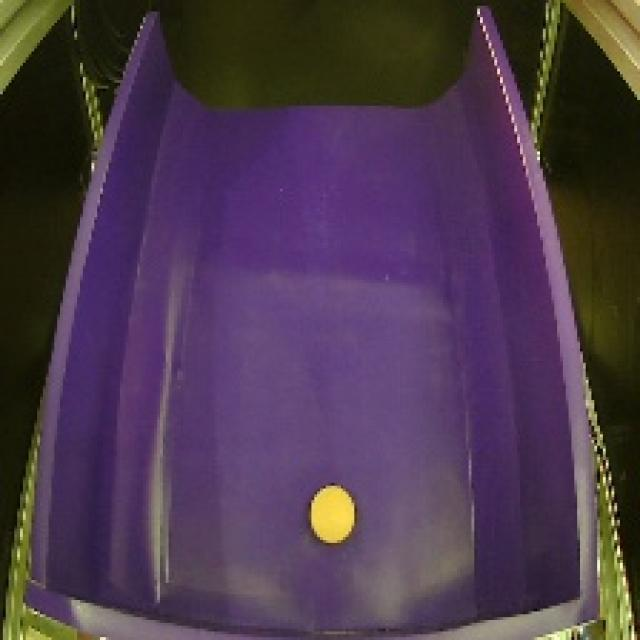small: (304, 482, 362, 549)
